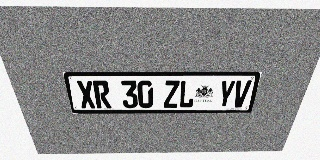0: (137, 80, 153, 108)
3: (121, 80, 138, 108)
L: (178, 80, 196, 108)
R: (92, 81, 112, 108)
V: (231, 80, 252, 107)
X: (76, 81, 96, 108)
Y: (216, 80, 236, 108)
Z: (164, 80, 180, 108)
